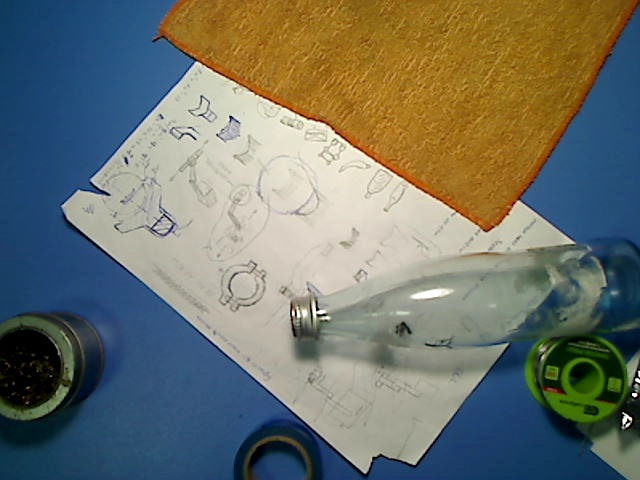bottle: (289, 234, 640, 345)
